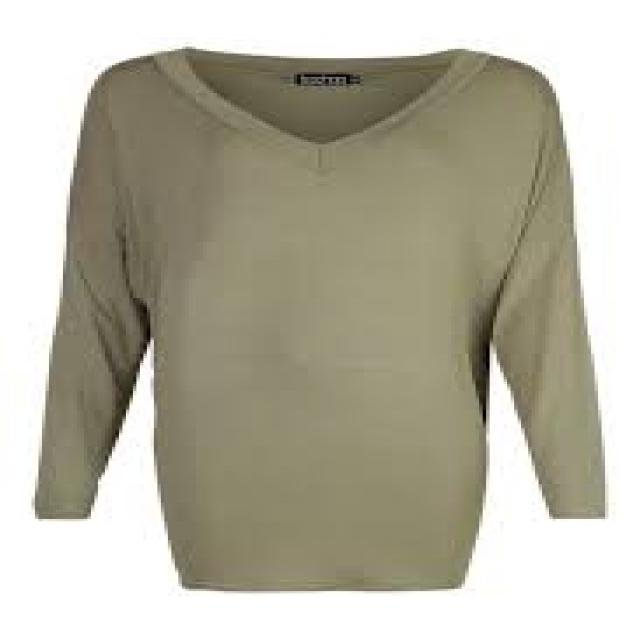plain: (31, 45, 616, 592)
